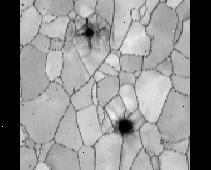good_void: (72, 15, 109, 52), (116, 114, 137, 137), (22, 1, 26, 6), (29, 163, 33, 167)
